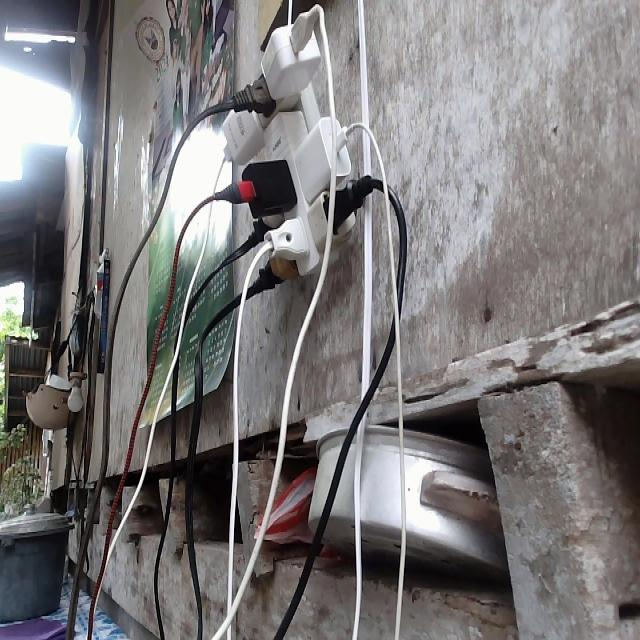-: (212, 2, 378, 298)
